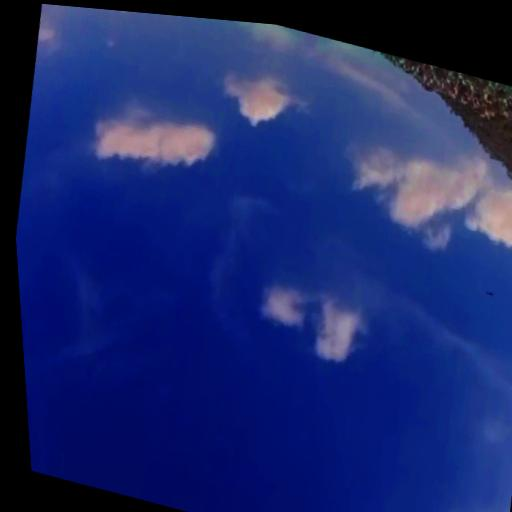drones: (481, 283, 498, 304)
